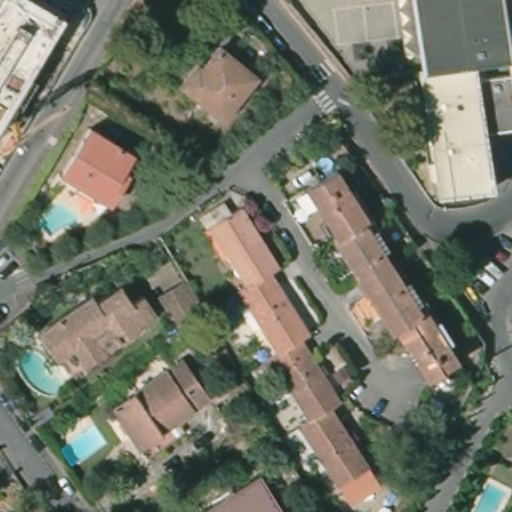pool: (15, 345, 69, 397), (58, 425, 106, 465), (39, 200, 79, 239), (471, 478, 512, 512), (316, 155, 334, 175)
